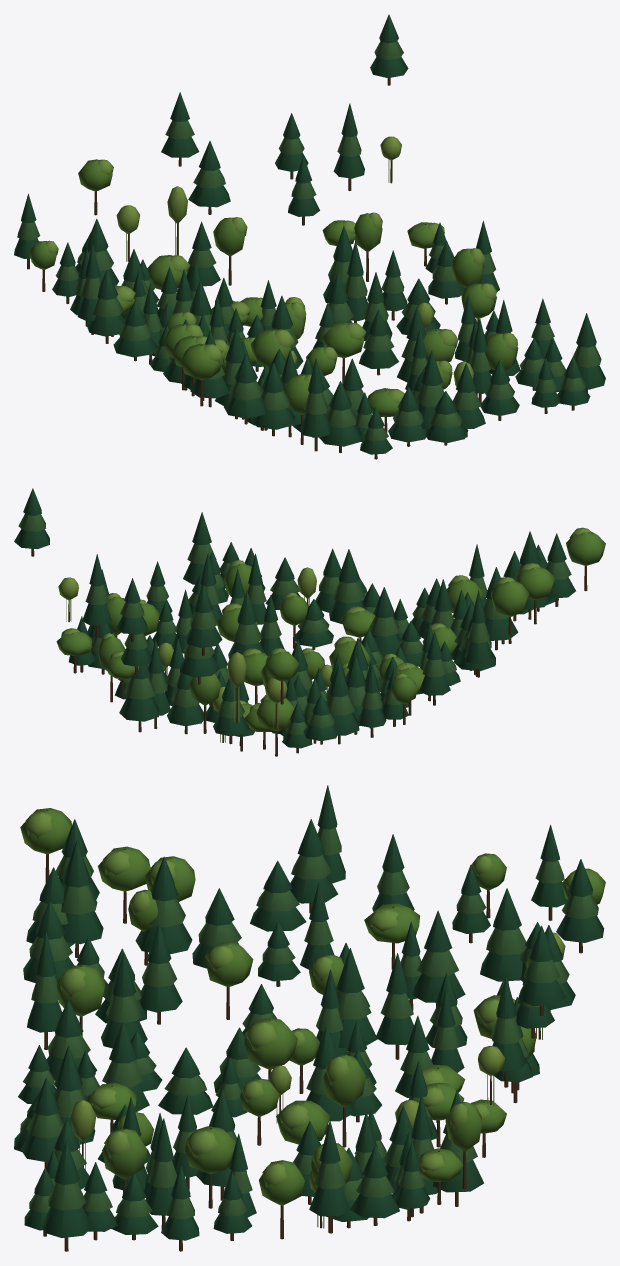
File: forest_3_3.dae
The picture shows the model from 3 angles, top to bottom: view 1: azimuth 30°, elevation 25°; view 2: azimuth 150°, elevation 25°; view 3: azimuth 270°, elevation 25°; orthographic projection. The views are drawn at different scales.
Visible parts, largest first — view 1: forest_3_3; view 2: forest_3_3; view 3: forest_3_3.
Boxes of the visible parts, x1,y1,x2,y2 form: forest_3_3: (14,14,605,459); forest_3_3: (14,488,605,756); forest_3_3: (14,785,605,1251).
Size of the model in its own units: 135 by 127 by 81.29.
